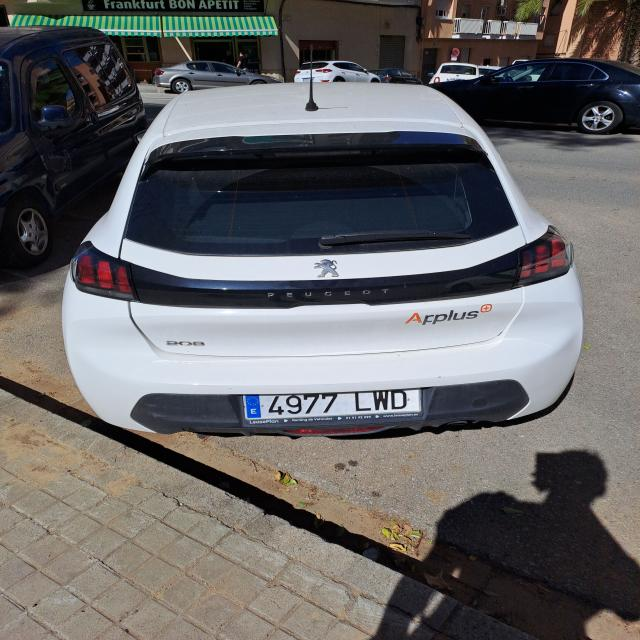license_plate-34Td: (243, 389, 422, 424)
